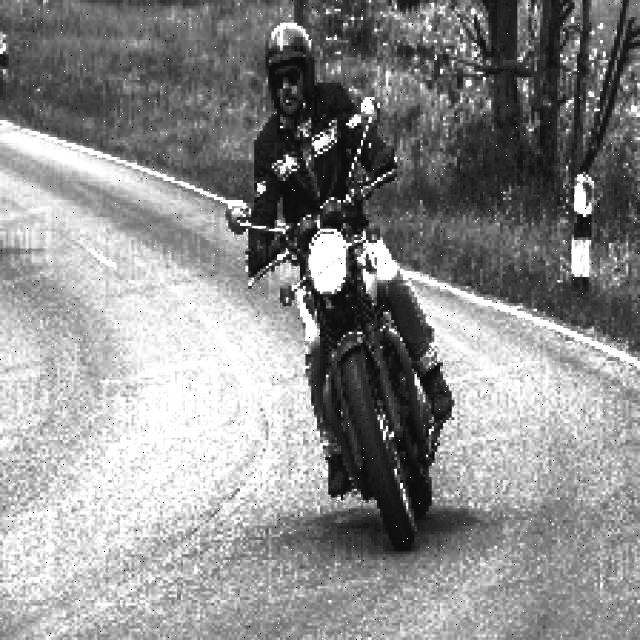Bike: (276, 185, 451, 592)
